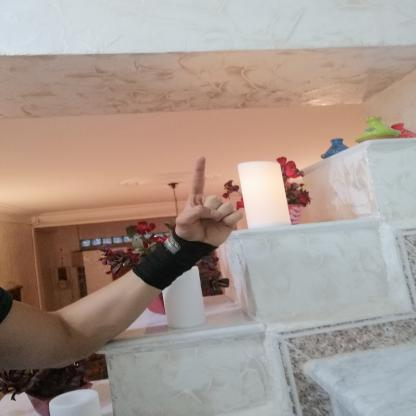BAA: (167, 149, 249, 251)
